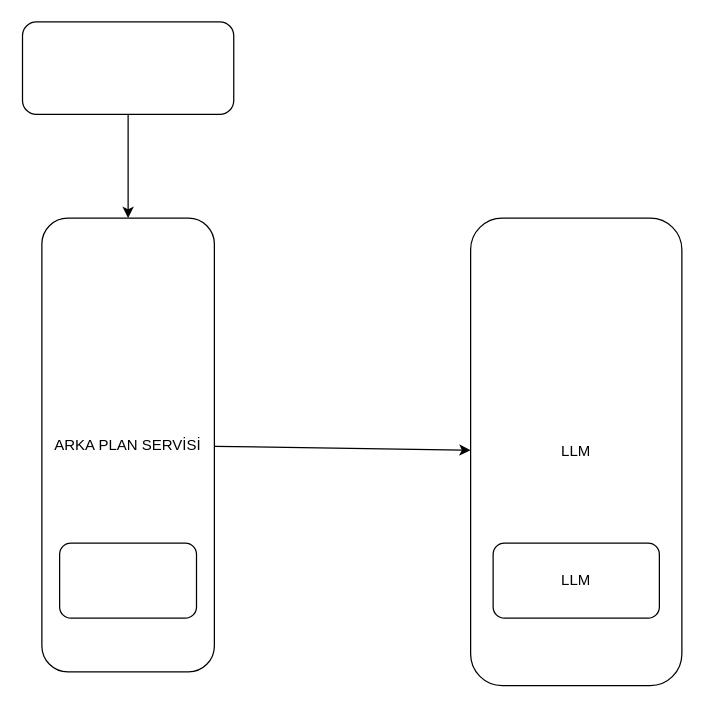
Image size: 704x708. Some labels were removed from this diagram. The box of each missing label's shape, as (x1, y1, x2, y2) in pixels:
json: (58, 542, 196, 618)
KULLANICI: (21, 21, 234, 114)
